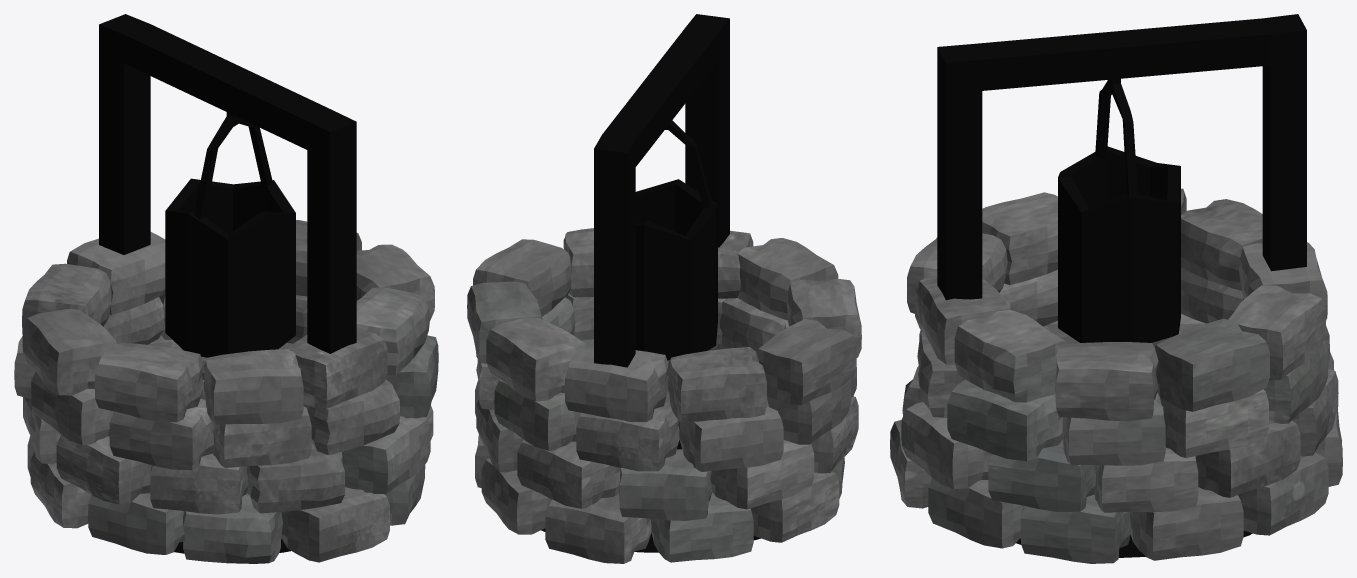
The model's file is Brunnen.fbx.
The picture shows the model from 3 angles, left to right: view 1: azimuth 30°, elevation 25°; view 2: azimuth 150°, elevation 25°; view 3: azimuth 270°, elevation 25°; orthographic projection. The views are drawn at different scales.
Visible parts, largest first — view 1: Steinblock.018; view 2: Steinblock.018; view 3: Steinblock.018.
Boxes of the visible parts, <box> form: Steinblock.018: <box>14,14,438,563</box>; Steinblock.018: <box>467,14,861,563</box>; Steinblock.018: <box>890,14,1342,563</box>.
Bounding box in the file's own units: 653 × 703 × 652.
